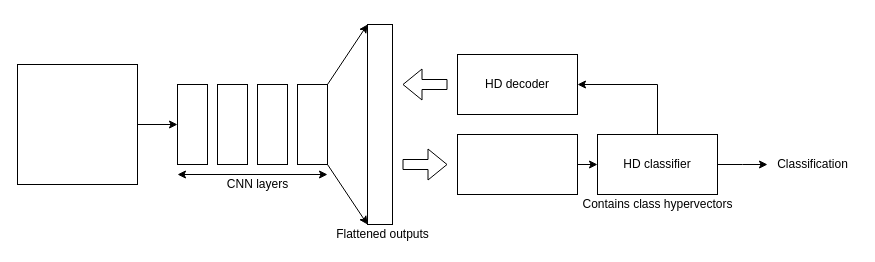
Some shapes in this 875 by 262 pixel diagram are drawn without their labels. Each missing label, with the centre of its shape:
"HD encoder" goes at [517,164].
"IMAGE" goes at [77,124].
